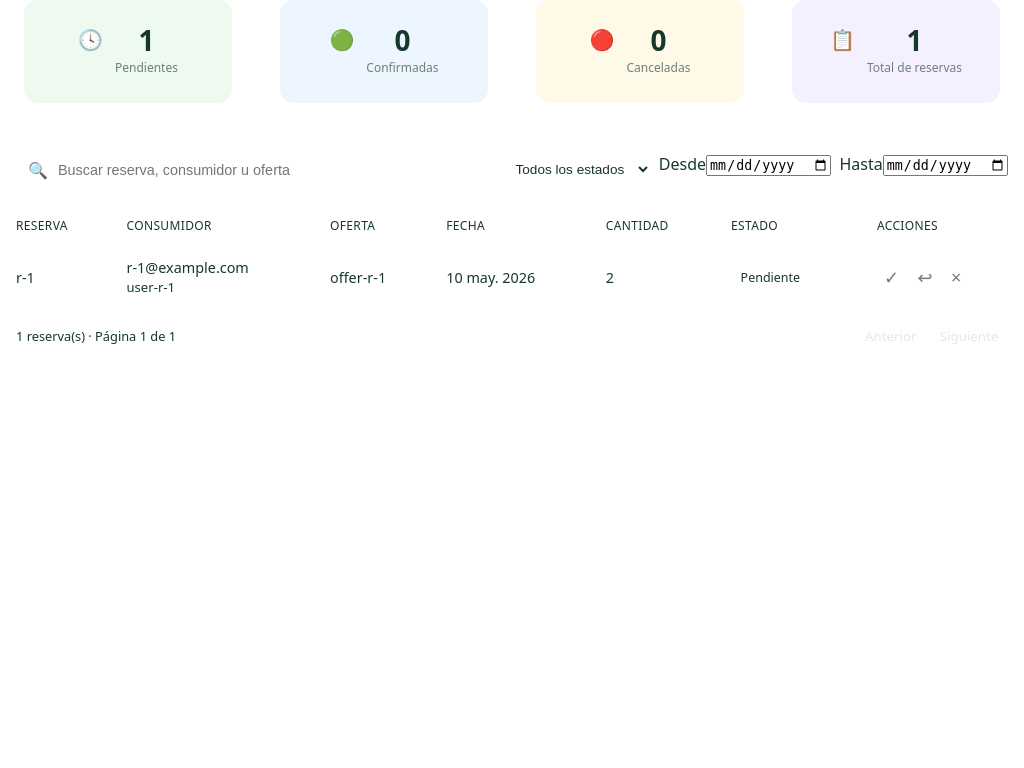
Test: ReservationsPanel › confirms a reservation without representing it as inventory returned
Click the button named "Confirmar reserva r-1" at (892, 277), box [877,262,906,292]
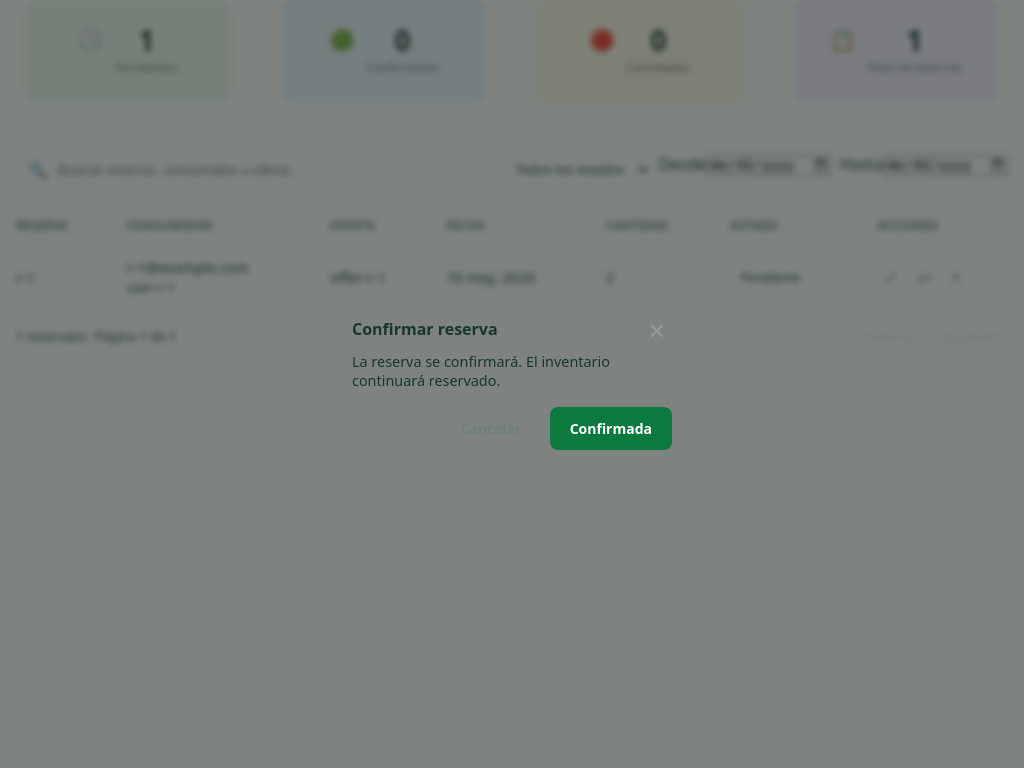
Expected: the dialog shows "continuará reservado", [352,352,610,390]
Click the button "Confirmada" at (611, 429), box [550,407,672,450]
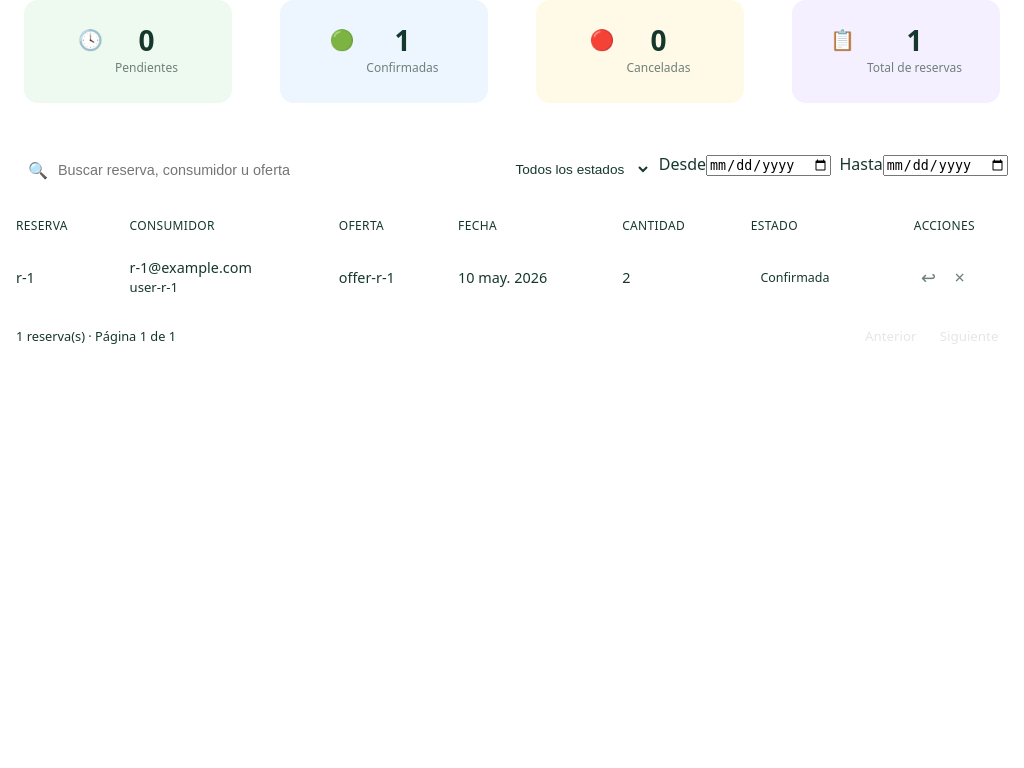
Expected: the text "Confirmada" is shown, [760,269,830,286]
